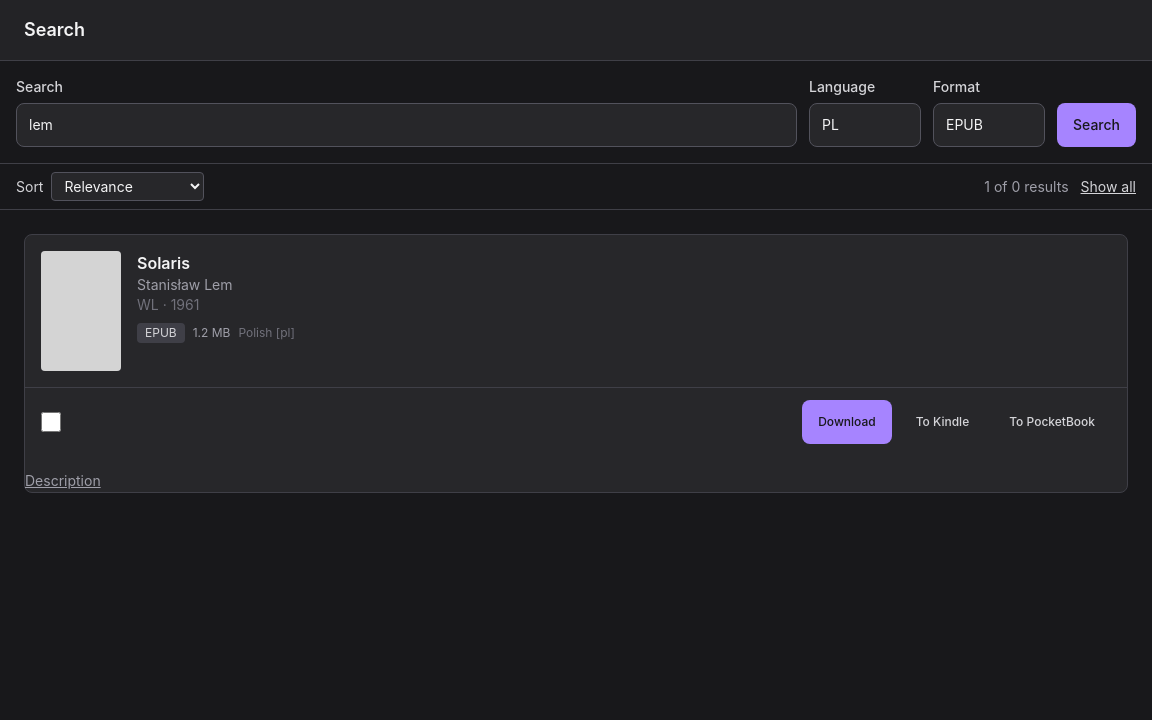
Test: SearchView description › renders the description as soon as it arrives, without a second toggle
Click the button with test id "description-toggle" at (63, 481), box [25,471,101,491]
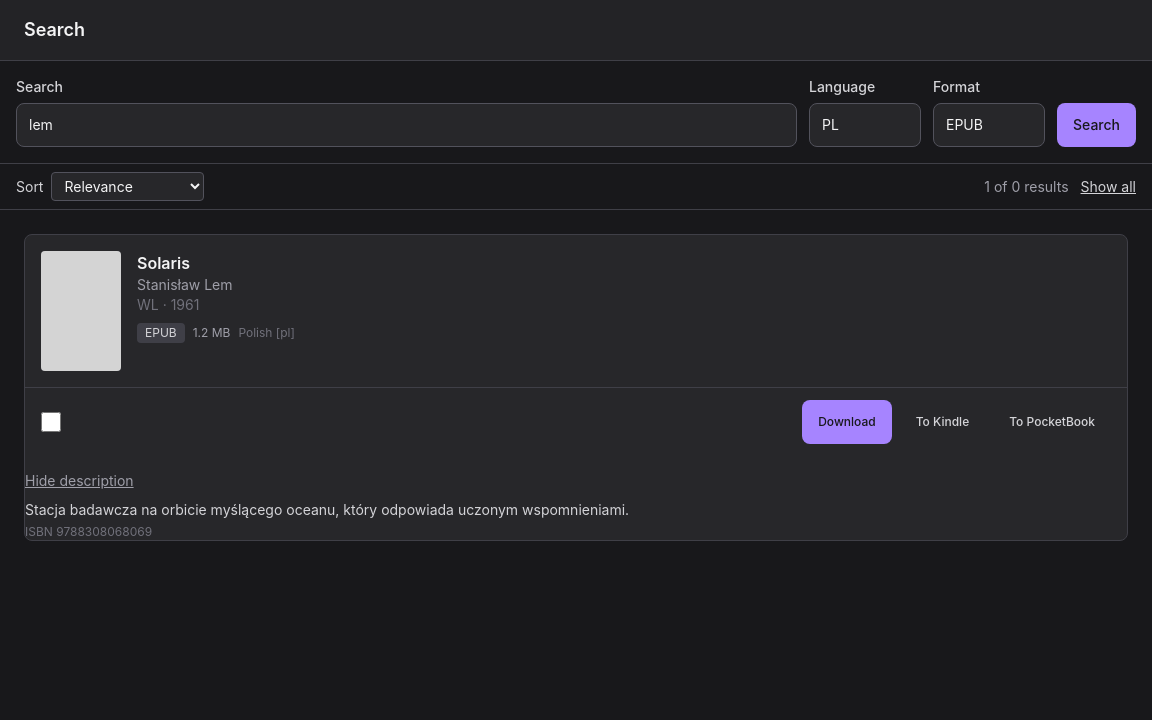
Expected: the element with test id "description-body" shows "Stacja badawcza", [25,501,629,518]
